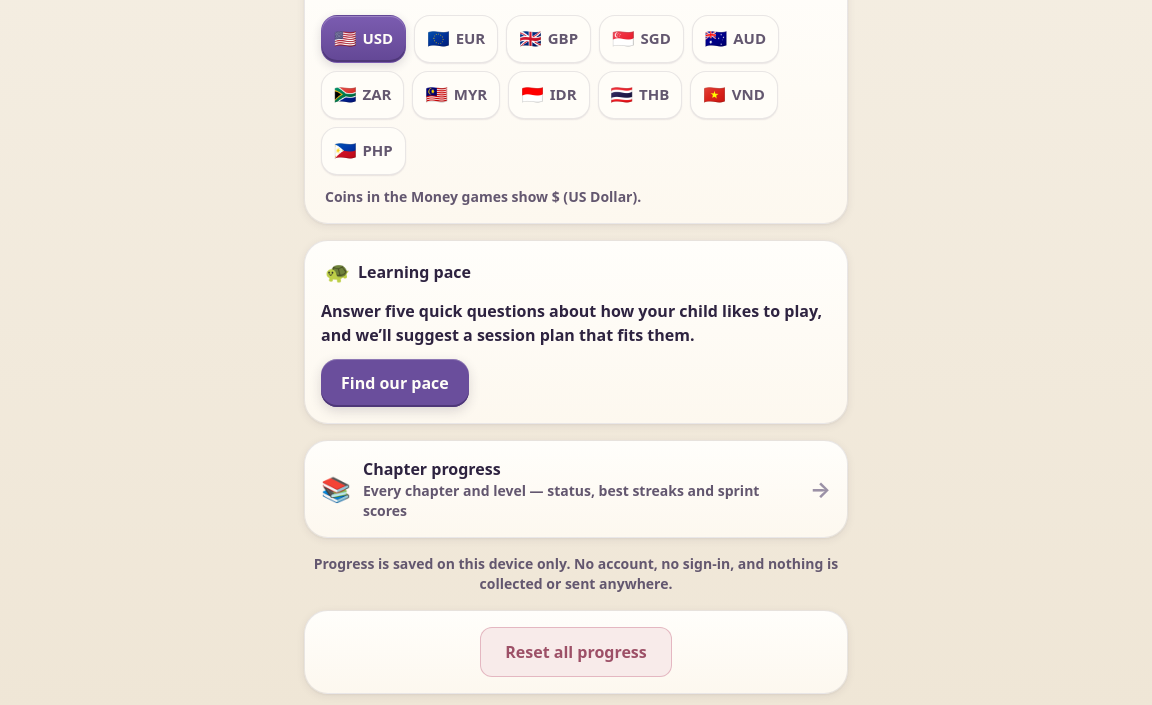
Test case: ParentView › shows the progress summary grouped by category on the progress page
(page scrolled)
Click the button with aria-label "Chapter progress" at (576, 488), box [304,440,848,538]
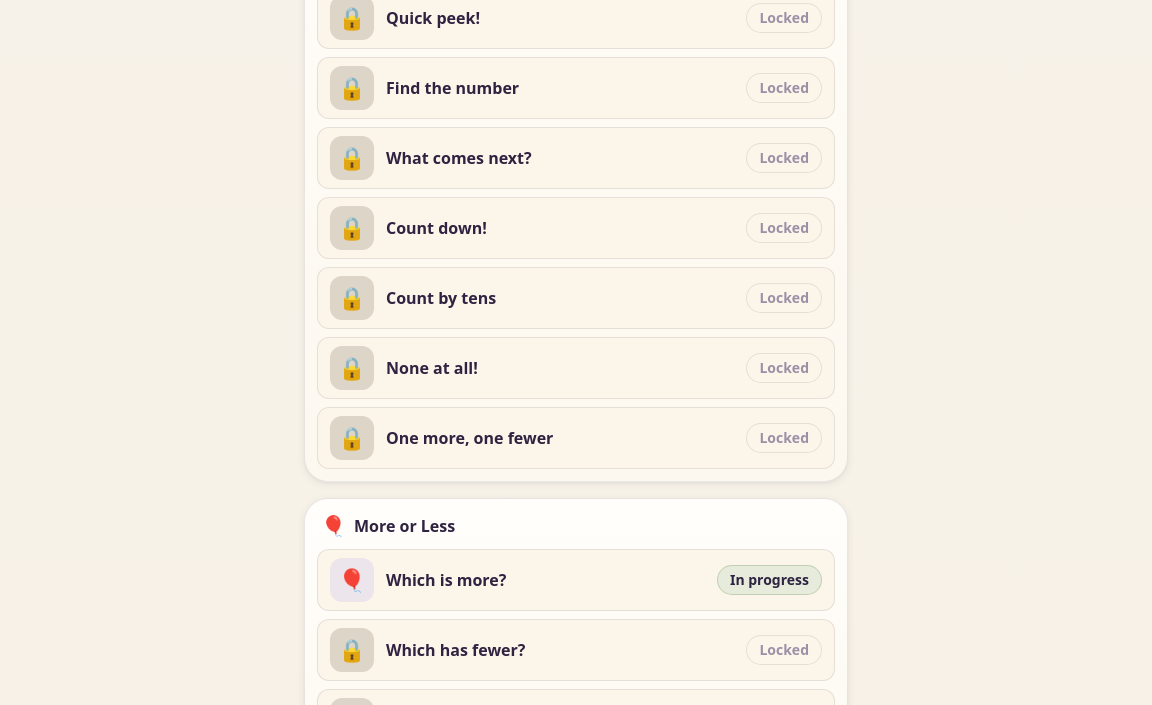
Expected: the text "More or Less" is shown, [354,514,455,536]
